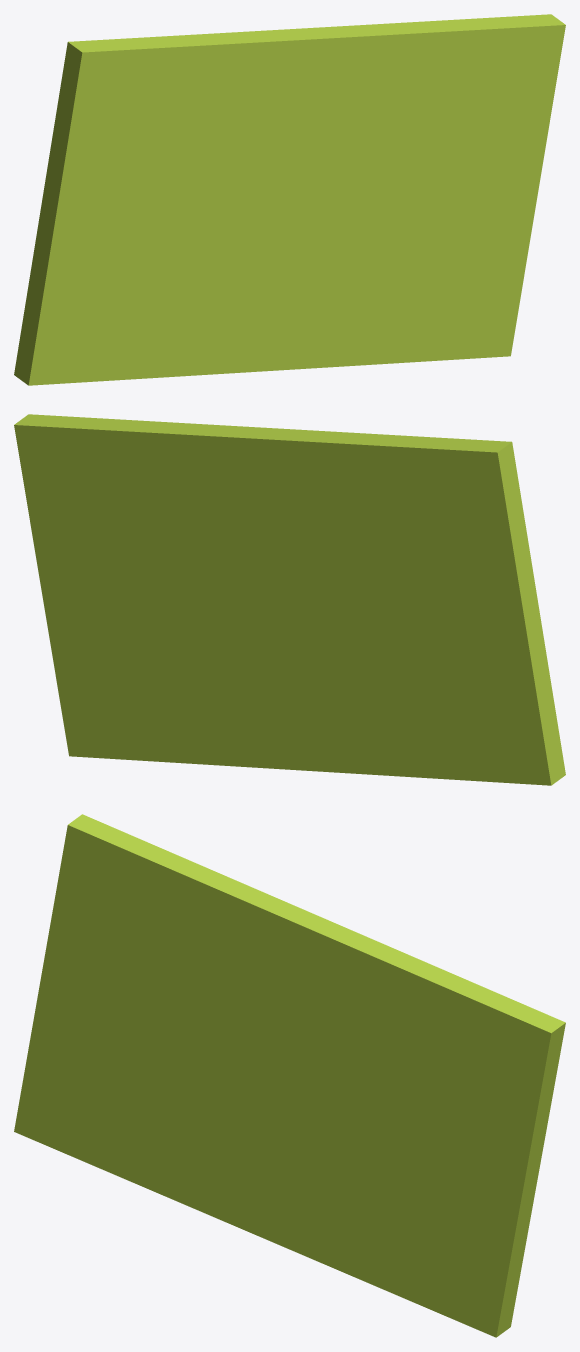
3 views of the same model, one above another, from view 1: azimuth 30°, elevation 25°; view 2: azimuth 150°, elevation 25°; view 3: azimuth 330°, elevation 25° (orthographic).
Visible parts, largest first — view 1: osm-way27917482-F2; view 2: osm-way27917482-F2; view 3: osm-way27917482-F2.
Part boxes in pixels (box(x1,y1,x2,y2)): osm-way27917482-F2: box(14, 14, 565, 385); osm-way27917482-F2: box(14, 414, 565, 785); osm-way27917482-F2: box(14, 814, 565, 1337).
Size of the model in its own units: 3.18 by 2.31 by 0.15.
